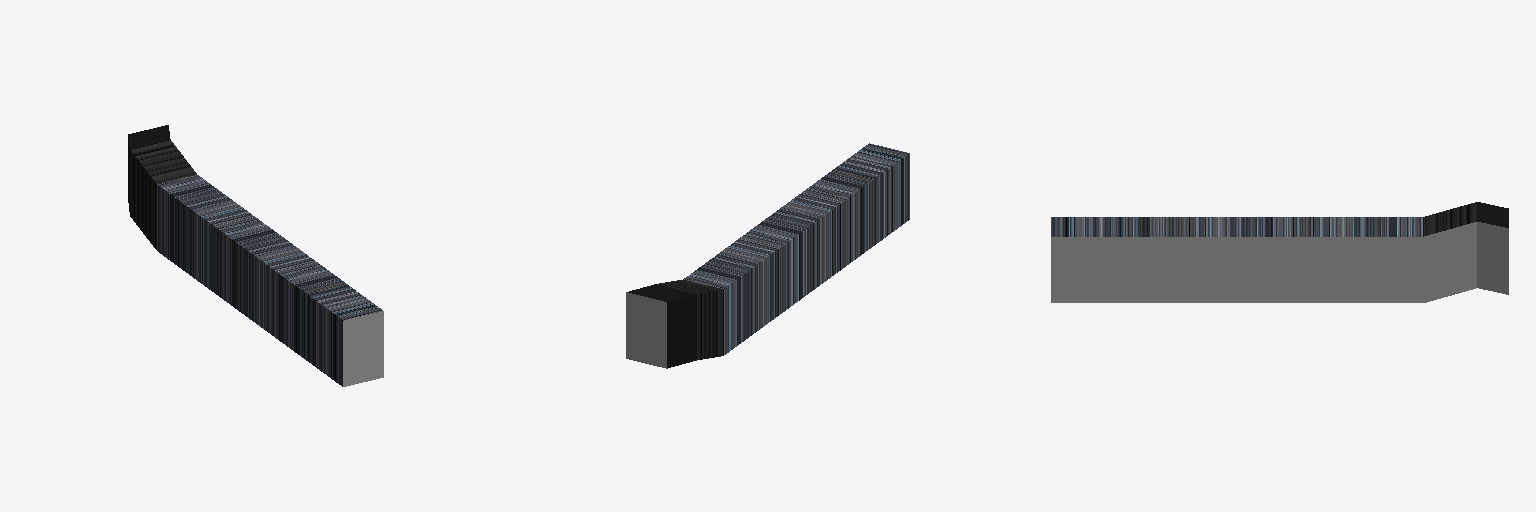
3 renders of one model, left to right at view 1: azimuth 30°, elevation 25°; view 2: azimuth 150°, elevation 25°; view 3: azimuth 270°, elevation 25°, orthographic.
Visible parts, largest first — view 1: Plane.006; view 2: Plane.006; view 3: Plane.006.
Boxes of the visible parts, <box> form: Plane.006: <box>128,125,383,386</box>; Plane.006: <box>626,143,909,368</box>; Plane.006: <box>1051,202,1508,302</box>.
Bounding box in the file's own units: 81.21 × 117 × 590.
3 materials, 2 textured.